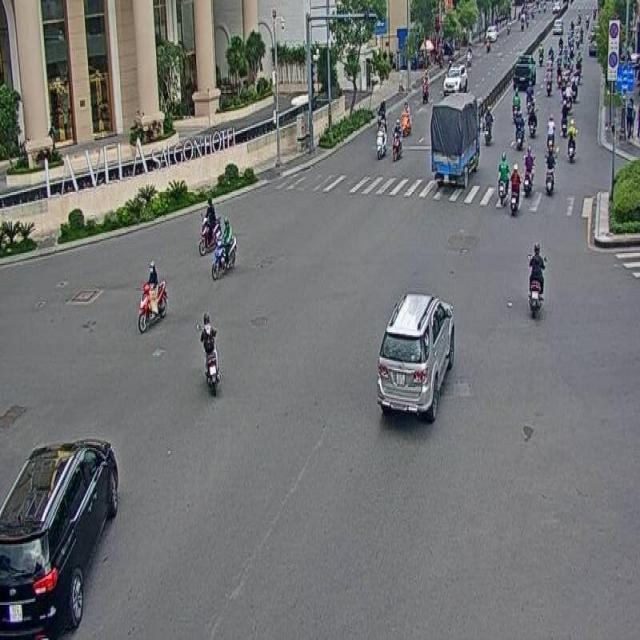car: (0, 436, 119, 640), (375, 289, 455, 426)
motorcycle: (138, 258, 168, 332), (210, 213, 236, 280), (200, 316, 222, 392), (526, 244, 544, 321), (198, 196, 220, 258)
truck: (429, 91, 482, 190)
